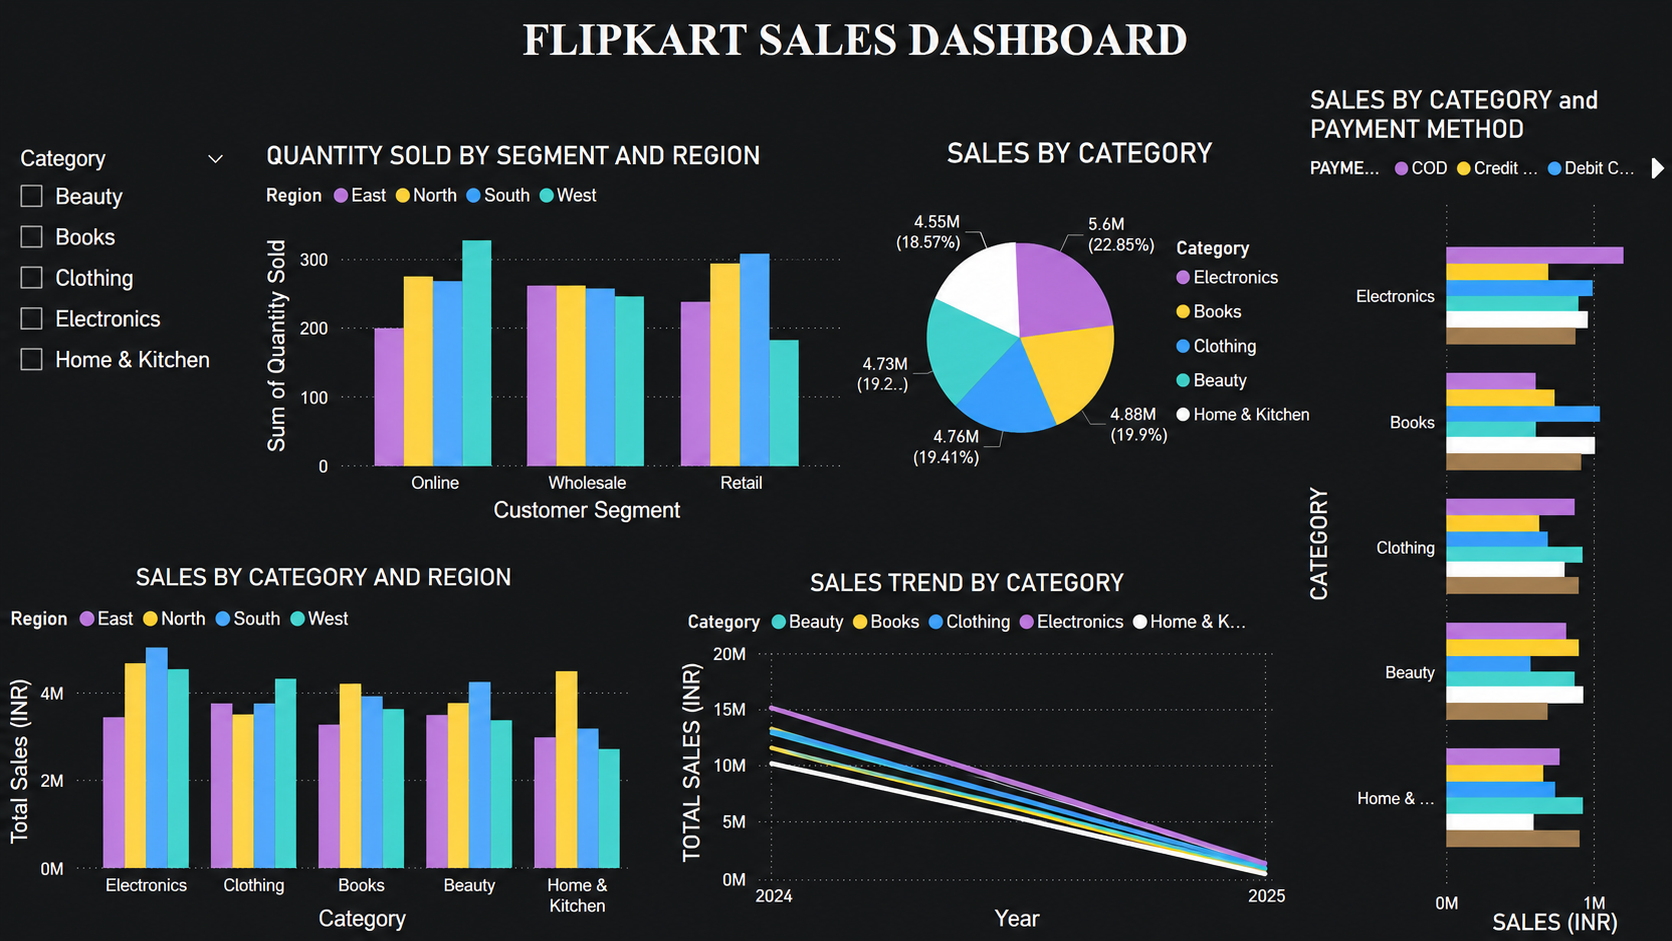

This screenshot's page, from the dashboard's own definition file:
{"tool":"powerbi","page":{"name":"Page 1","canvas":[1280,720],"ordinal":0},"visuals":[{"type":"pieChart","title":"SALES  BY CATEGORY","fields":{"Category":["flipkart_sales_enriched.Category"],"Y":["Sum(flipkart_sales_enriched.Price (INR))"]},"box":[669.6,120.9,307,279.9],"z":0},{"type":"clusteredColumnChart","title":"SALES  BY CATEGORY AND REGION","fields":{"Category":["flipkart_sales_enriched.Category"],"Y":["Sum(flipkart_sales_enriched.Total Sales (INR))"],"Series":["flipkart_sales_enriched.Region"]},"box":[0,438.4,512.1,281.6],"z":1000},{"type":"textbox","box":[0,24.6,1279.4,56.7],"z":2000},{"type":"lineChart","title":"SALES TREND BY CATEGORY ","fields":{"Category":["flipkart_sales_enriched.Order Date.Variation.Date Hierarchy.Year"],"Y":["Sum(flipkart_sales_enriched.Total Sales (INR))"],"Series":["flipkart_sales_enriched.Category"]},"box":[534.4,440.6,429.5,278.4],"z":3000},{"type":"clusteredColumnChart","title":"QUANTITY SOLD BY SEGMENT AND REGION","fields":{"Y":["Sum(flipkart_sales_enriched.Quantity Sold)"],"Category":["flipkart_sales_enriched.Customer Segment"],"Series":["flipkart_sales_enriched.Region"]},"box":[187.7,122.5,482,278.4],"z":4000},{"type":"clusteredBarChart","title":"SALES BY CATEGORY and PAYMENT METHOD","fields":{"Category":["flipkart_sales_enriched.Category"],"Series":["flipkart_sales_enriched.Payment Method"],"Y":["Sum(flipkart_sales_enriched.Price (INR))"]},"box":[976.6,81.1,302.2,639.4],"z":5000},{"type":"slicer","fields":{"Values":["flipkart_sales_enriched.Category"]},"box":[0,122.5,176.6,278.4],"z":6000}]}

Visuals, with their boxes in screenshot pixels (x1, y1, x2, y2), scaled from the page's 1280x720 canvas onto the 1672x941 screenshot:
"SALES  BY CATEGORY" pieChart: [x1=875, y1=158, x2=1276, y2=524]
"SALES  BY CATEGORY AND REGION" clusteredColumnChart: [x1=0, y1=573, x2=669, y2=940]
textbox: [x1=0, y1=32, x2=1671, y2=106]
"SALES TREND BY CATEGORY " lineChart: [x1=698, y1=576, x2=1259, y2=940]
"QUANTITY SOLD BY SEGMENT AND REGION" clusteredColumnChart: [x1=245, y1=160, x2=875, y2=524]
"SALES BY CATEGORY and PAYMENT METHOD" clusteredBarChart: [x1=1276, y1=106, x2=1670, y2=940]
slicer - flipkart_sales_enriched.Category: [x1=0, y1=160, x2=231, y2=524]
